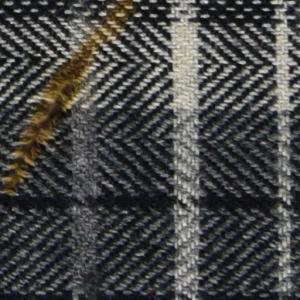Oil Stain: (1, 1, 140, 207)
